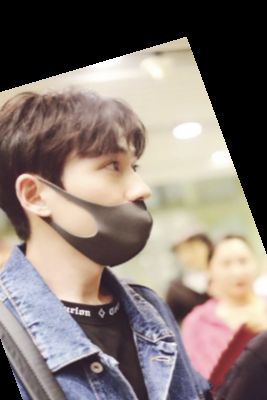mask_weared_incorrect: (1, 79, 162, 282)
